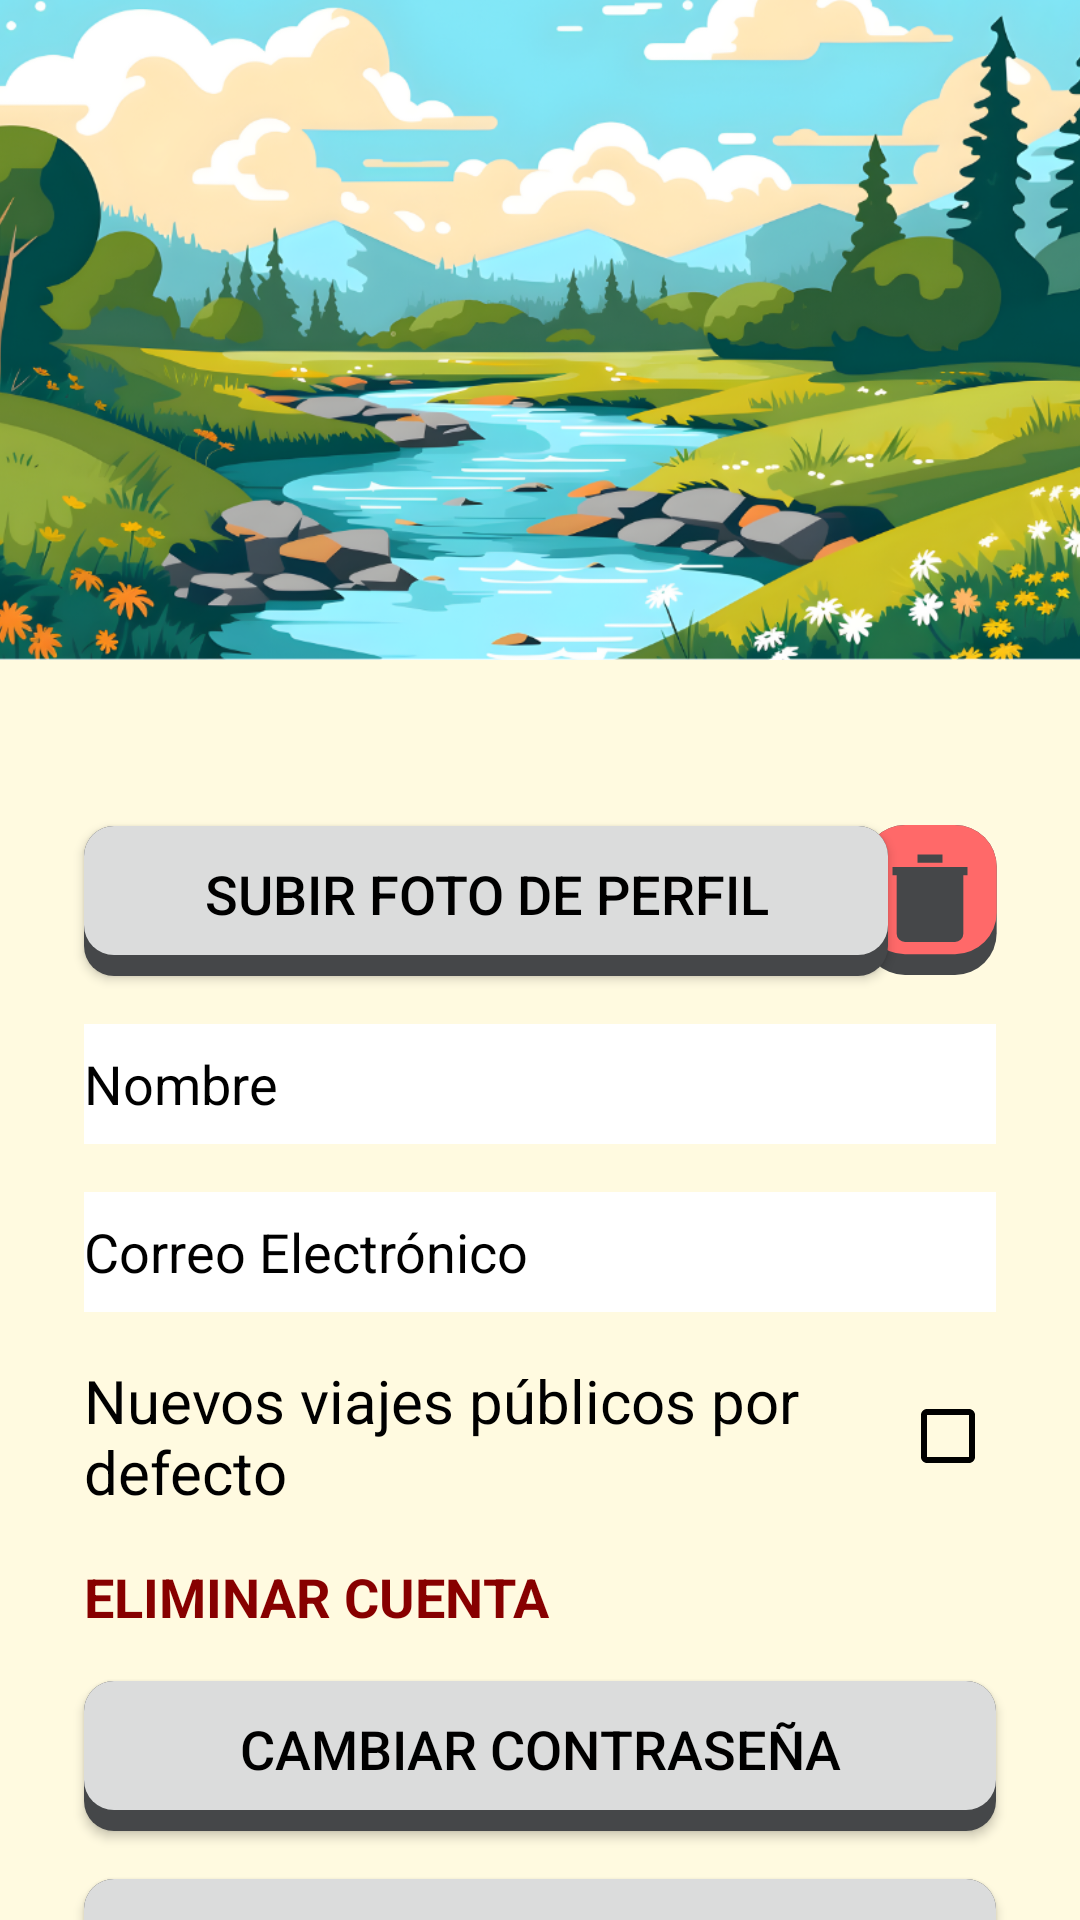

Locate icon controls on the screen. Image size 1080 × 1920, boxes as {"left": x1, "top": y1, "right": x2, "bottom": y2}.
delete: {"left": 855, "top": 825, "right": 997, "bottom": 975}
